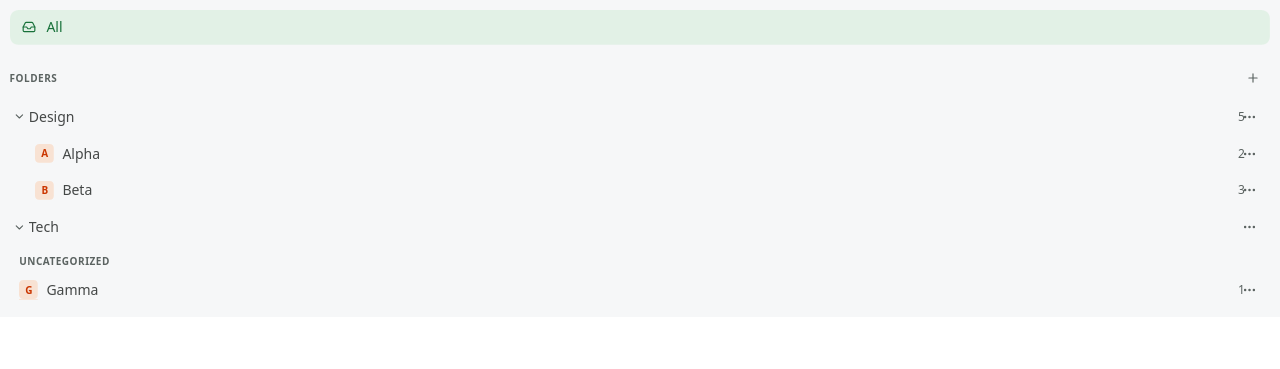
Test: RAD-393: create › keeps the editor open with an inline message on a duplicate
Click the button named "New folder": (1253, 78) 1235,61 -> 1270,96
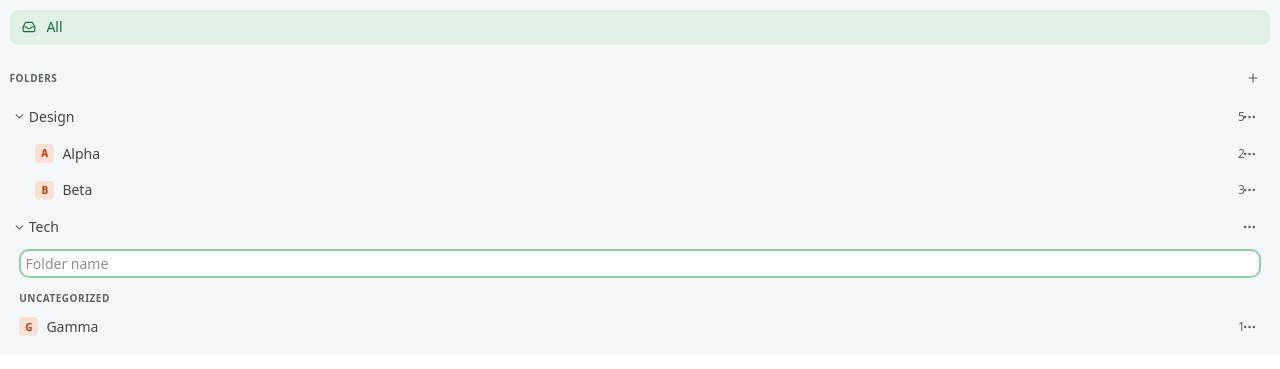
In the field labelled "Folder name": (640, 264) 19,250 -> 1261,278, type "Design"
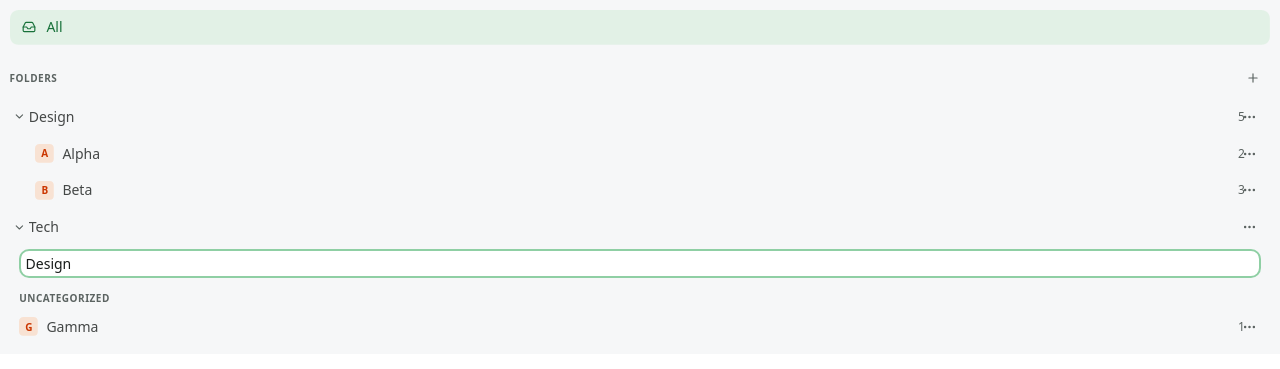
Press Enter
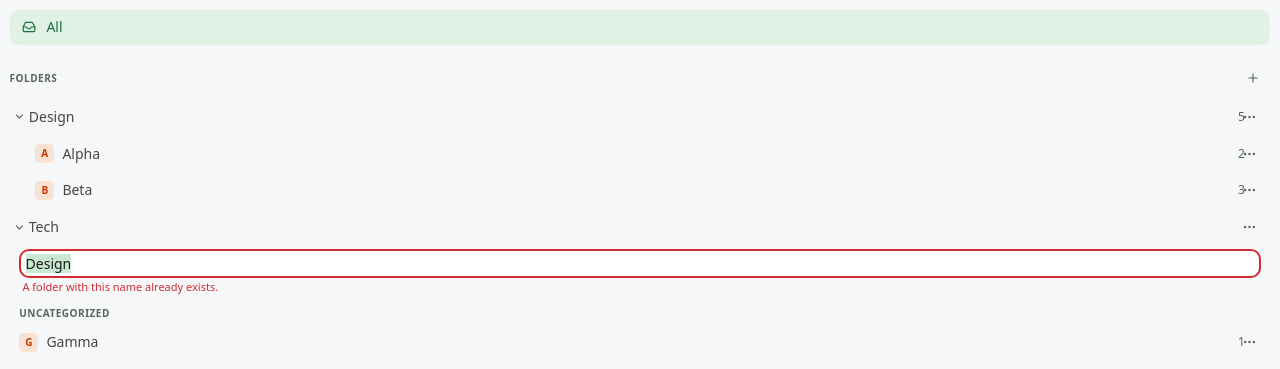
Expected: the text "A folder with this name already exists." is shown, 22,279 -> 218,294
